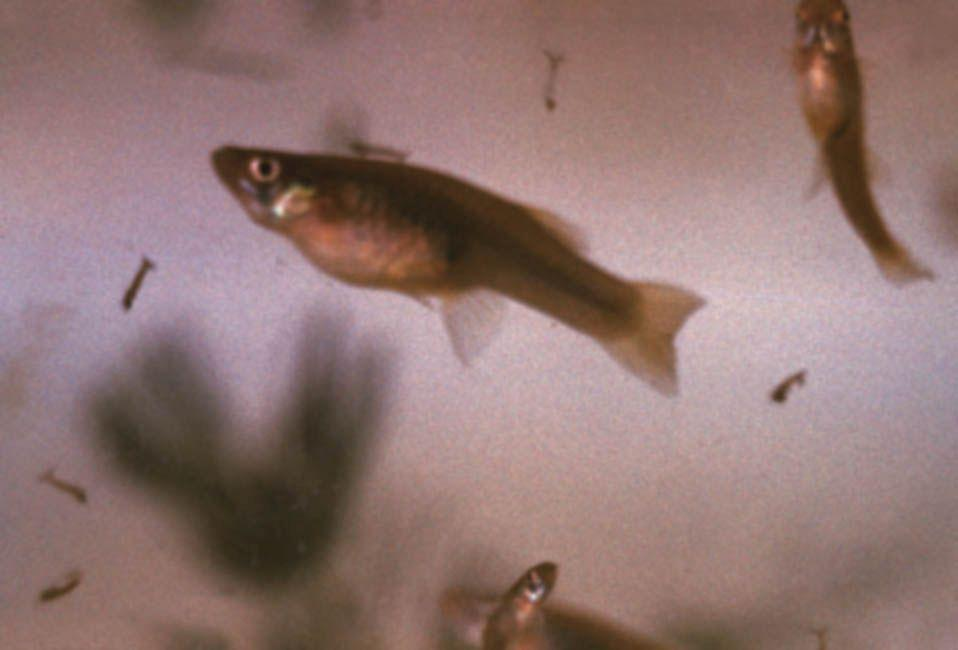Mosquito Fish: (204, 125, 715, 400), (762, 0, 947, 307), (484, 547, 564, 650)
